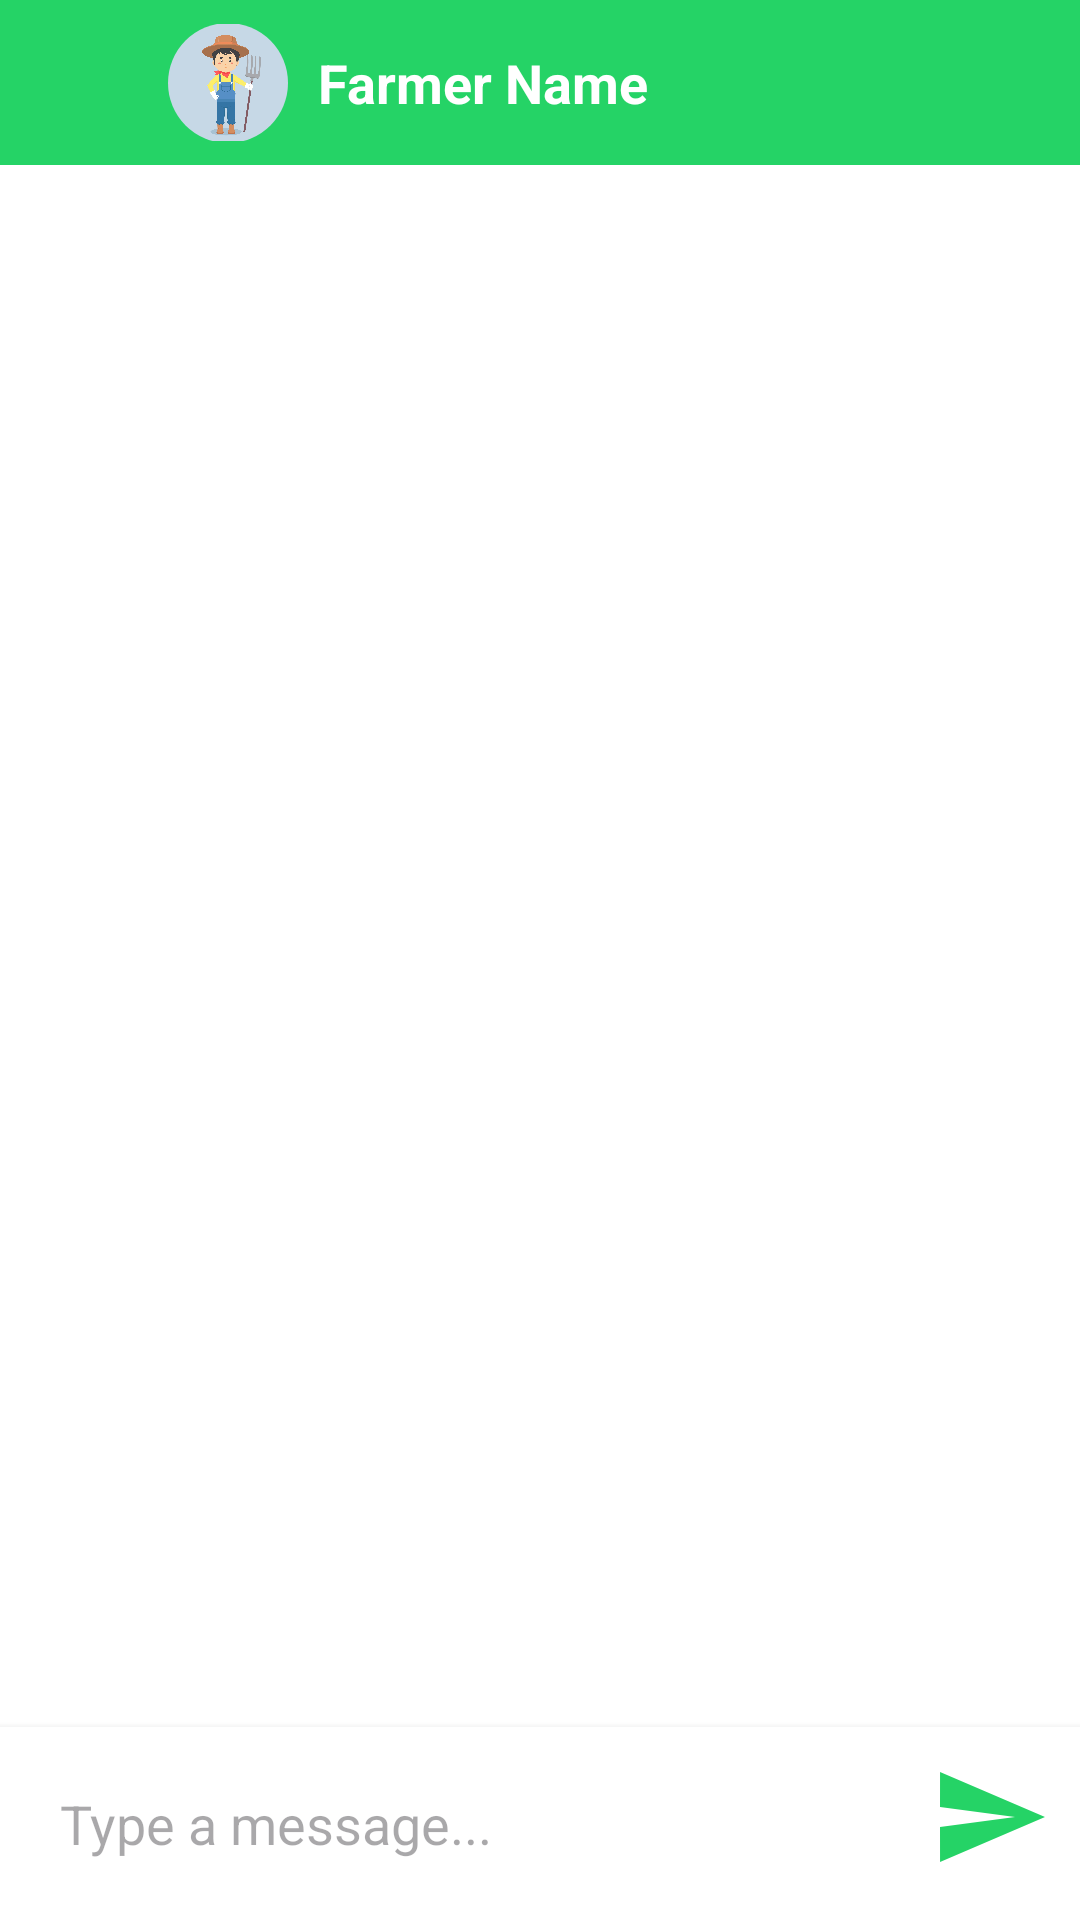

Named icons in this screenshot (1080×1920) and their centers, (x=x, y=y):
Send: (x=992, y=1817)
